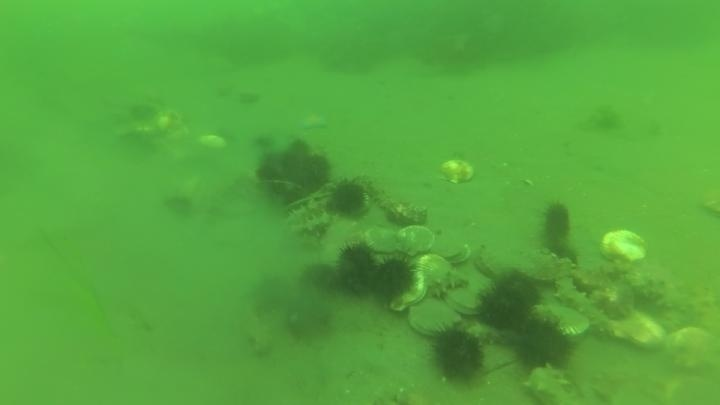echinus: (474, 270, 542, 333), (427, 324, 488, 386), (511, 318, 574, 373), (368, 254, 420, 305), (283, 296, 336, 345), (332, 242, 379, 297), (248, 273, 295, 319), (325, 177, 371, 220), (538, 200, 574, 250), (297, 154, 338, 195), (299, 260, 340, 295), (254, 154, 289, 186), (161, 190, 197, 221), (544, 239, 581, 267)
holothurian: (625, 271, 713, 322), (475, 243, 568, 287), (550, 273, 613, 324), (519, 362, 579, 404), (284, 198, 334, 241)
scallop: (474, 243, 566, 288), (367, 177, 430, 229), (415, 252, 472, 307), (368, 254, 424, 309), (440, 262, 495, 318), (663, 325, 719, 376), (608, 306, 669, 352), (405, 297, 462, 340), (532, 302, 592, 340), (598, 227, 650, 267), (425, 230, 473, 266), (413, 252, 455, 291), (380, 197, 429, 230), (393, 224, 438, 259), (442, 284, 486, 318), (362, 224, 405, 257), (470, 243, 503, 284), (437, 156, 477, 187), (192, 133, 228, 156)
starfish: (295, 109, 331, 133)
